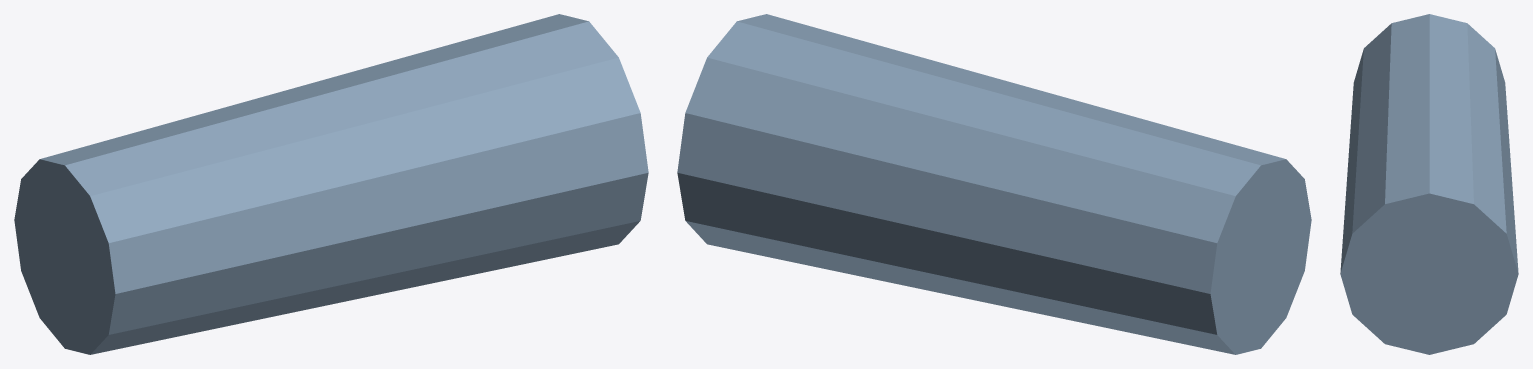
The model's file is bone_17.obj.
3 renders of one model, left to right at view 1: azimuth 30°, elevation 25°; view 2: azimuth 150°, elevation 25°; view 3: azimuth 270°, elevation 25°, orthographic. The views are drawn at different scales.
Visible parts, largest first — view 1: bone_17; view 2: bone_17; view 3: bone_17.
Part boxes in pixels (box(x1,y1,x2,y2)): bone_17: box(14, 14, 648, 354); bone_17: box(677, 14, 1311, 354); bone_17: box(1340, 14, 1518, 354).
Size of the model in its own units: 0.0407 by 0.016 by 0.016.
